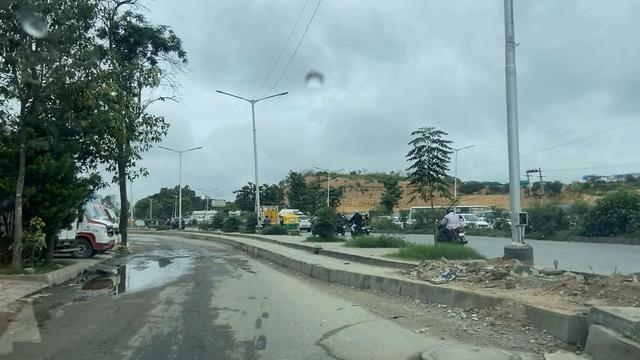RoadDamages: (408, 338, 523, 360)
